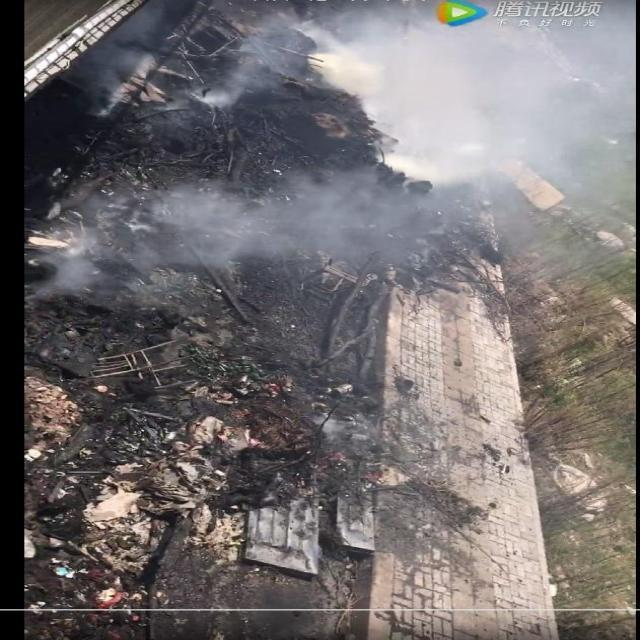Smoke: (24, 1, 633, 301)
